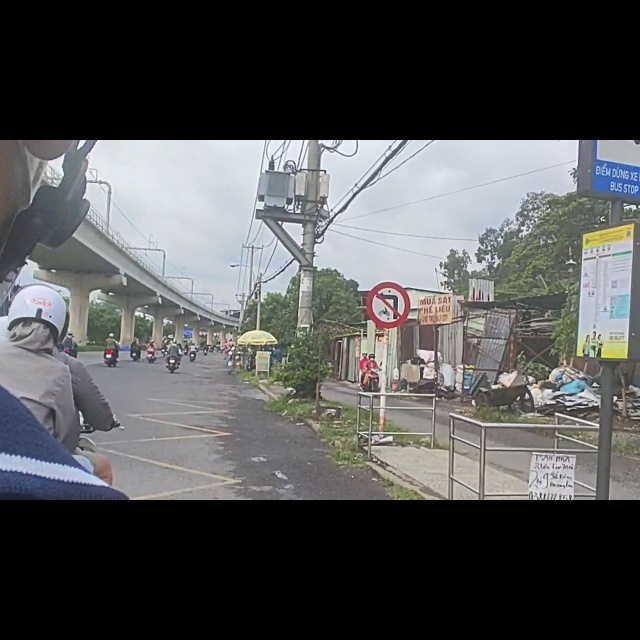bien_cam: (575, 2, 640, 110), (365, 251, 411, 335)
